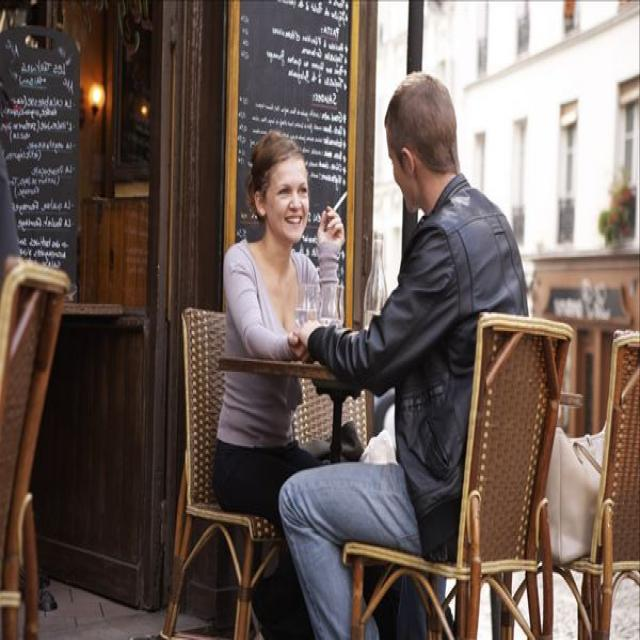smoking: (326, 186, 350, 221)
